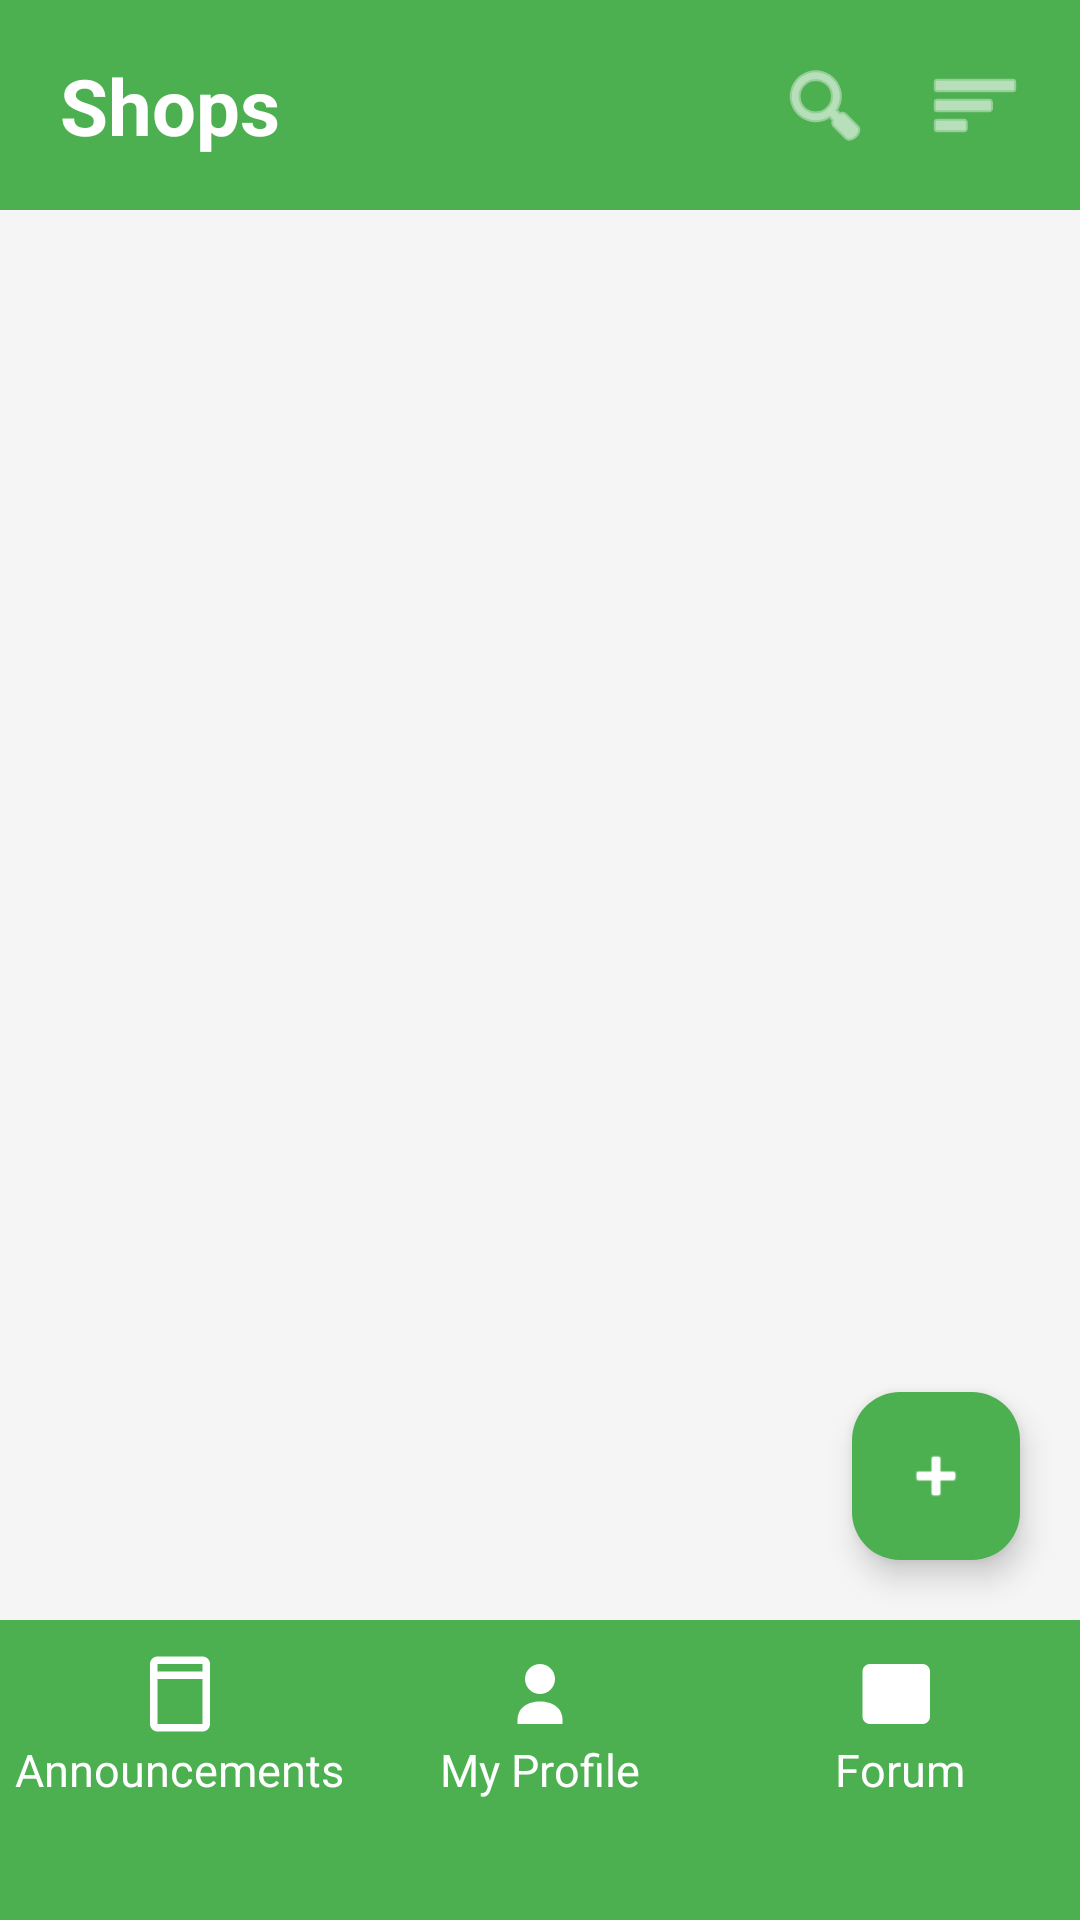

Named icons in this screenshot (1080px×1920px) and their bounding boxes, (x1, y1, x2, y2):
add: (852, 1392, 1020, 1560)
search: (790, 70, 860, 141)
sort by size: (934, 79, 1016, 132)
